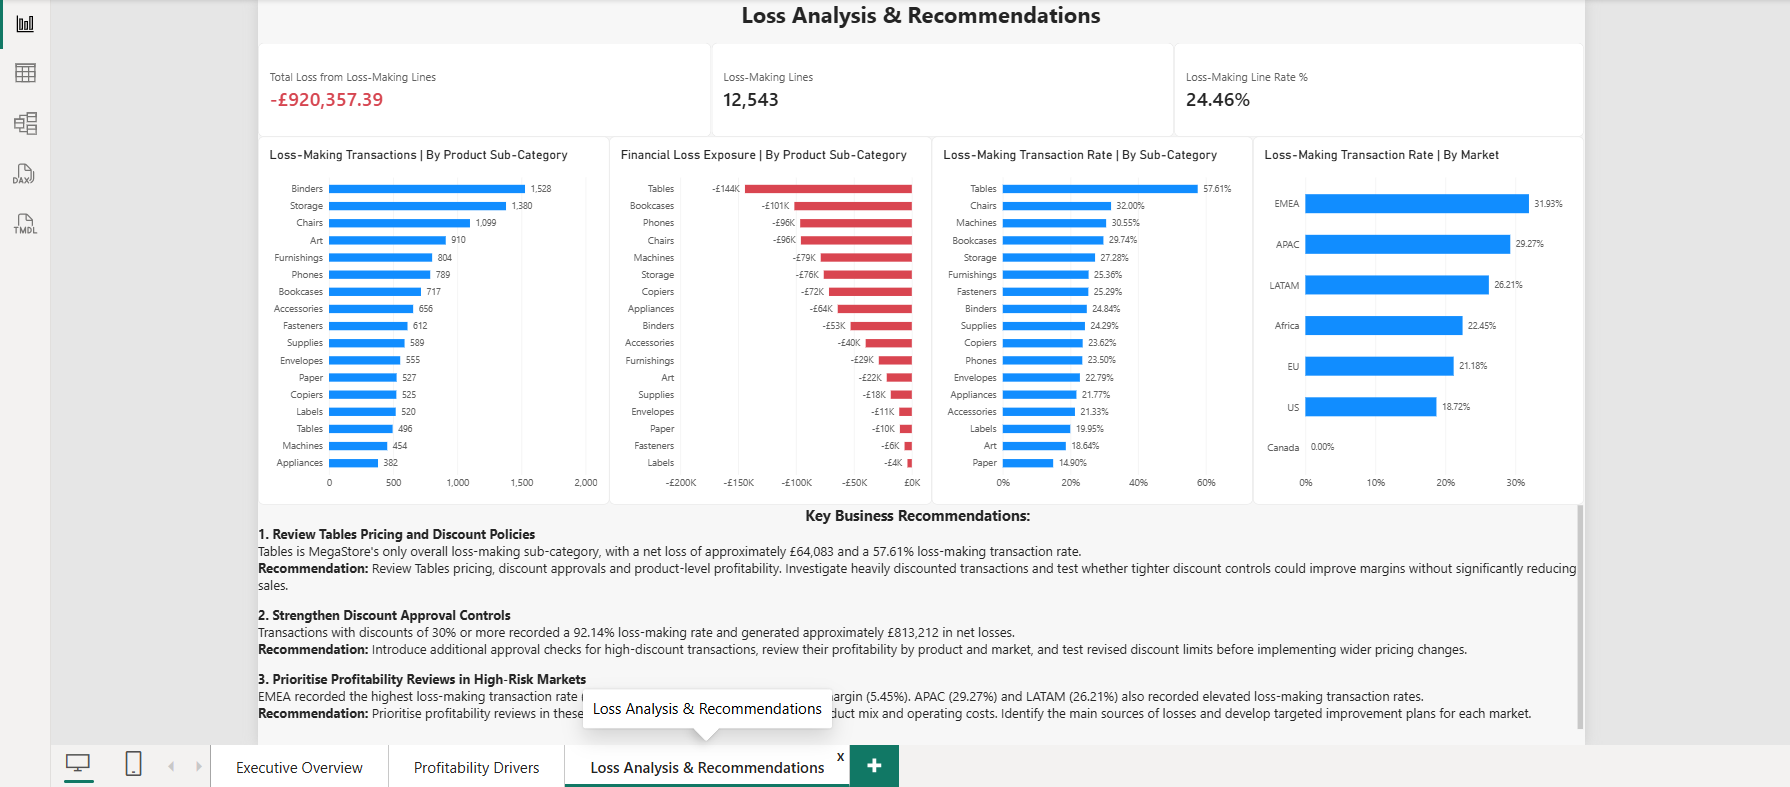

This screenshot's page, from the dashboard's own definition file:
{"tool":"powerbi","page":{"name":"Loss Analysis & Recommendations","canvas":[1920,1080],"ordinal":2},"visuals":[{"type":"textbox","box":[0,0,1919.6,63],"z":0},{"type":"cardVisual","fields":{"Data":["MegaStore Sales.Total Loss from Loss-Making Lines"]},"box":[0,63,656.5,137],"z":1},{"type":"cardVisual","fields":{"Data":["MegaStore Sales.Loss-Making Lines"]},"box":[656.5,63,669.6,137],"z":2},{"type":"cardVisual","fields":{"Data":["MegaStore Sales.Loss-Making Line Rate %"]},"box":[1326.1,63,593.5,137],"z":3},{"type":"clusteredBarChart","title":"Loss-Making Transactions | By Product Sub-Category","fields":{"Category":["MegaStore Sales.sub_category"],"Y":["MegaStore Sales.Loss-Making Lines"]},"box":[0,199.7,508.4,533.1],"z":4},{"type":"clusteredBarChart","title":"Financial Loss Exposure | By Product Sub-Category","fields":{"Category":["MegaStore Sales.sub_category"],"Y":["MegaStore Sales.Total Loss from Loss-Making Lines"]},"box":[508.4,199.7,467.2,533.1],"z":5},{"type":"clusteredBarChart","title":"Loss-Making Transaction Rate | By Sub-Category","fields":{"Category":["MegaStore Sales.sub_category"],"Y":["MegaStore Sales.Loss-Making Line Rate %"]},"box":[975.6,199.7,465.2,533.1],"z":6},{"type":"clusteredBarChart","title":"Loss-Making Transaction Rate | By Market","fields":{"Category":["MegaStore Sales.market"],"Y":["MegaStore Sales.Loss-Making Line Rate %"]},"box":[1440.8,199.7,479.6,533.1],"z":7},{"type":"textbox","box":[0,732.8,1918.4,345.8],"z":8}]}

Visuals, with their boxes on the page's 1920x1080 design canvas (x1, y1, x2, y2). These are canvas units, not pixel positions in the 1790x787 screenshot, which may show the page scaled, cropped or inside an application window:
textbox: [0,0,1920,63]
cardVisual - MegaStore Sales.Total Loss from Loss-Making Lines: [0,63,656,200]
cardVisual - MegaStore Sales.Loss-Making Lines: [656,63,1326,200]
cardVisual - MegaStore Sales.Loss-Making Line Rate %: [1326,63,1920,200]
"Loss-Making Transactions | By Product Sub-Category" clusteredBarChart: [0,200,508,733]
"Financial Loss Exposure | By Product Sub-Category" clusteredBarChart: [508,200,976,733]
"Loss-Making Transaction Rate | By Sub-Category" clusteredBarChart: [976,200,1441,733]
"Loss-Making Transaction Rate | By Market" clusteredBarChart: [1441,200,1920,733]
textbox: [0,733,1918,1079]
